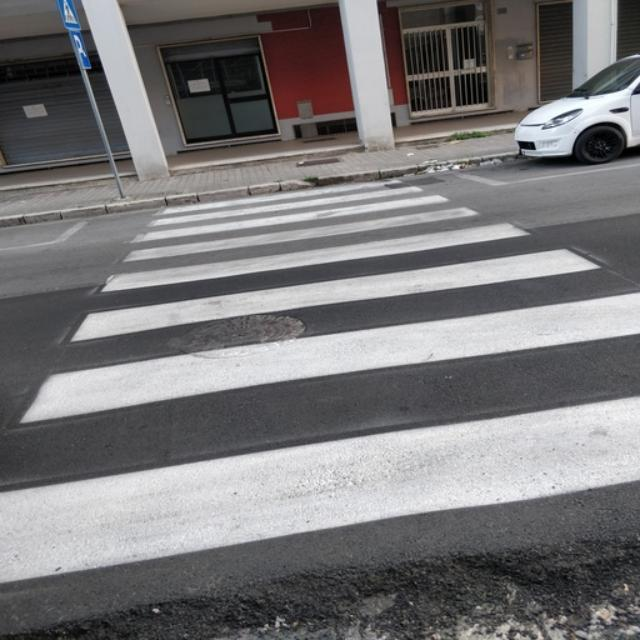sidewalk: (0, 174, 640, 593)
